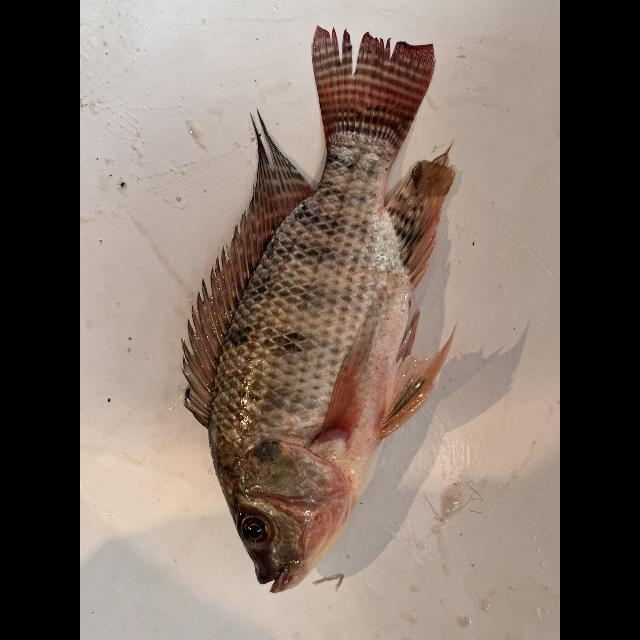Tilapia: (183, 23, 459, 594)
